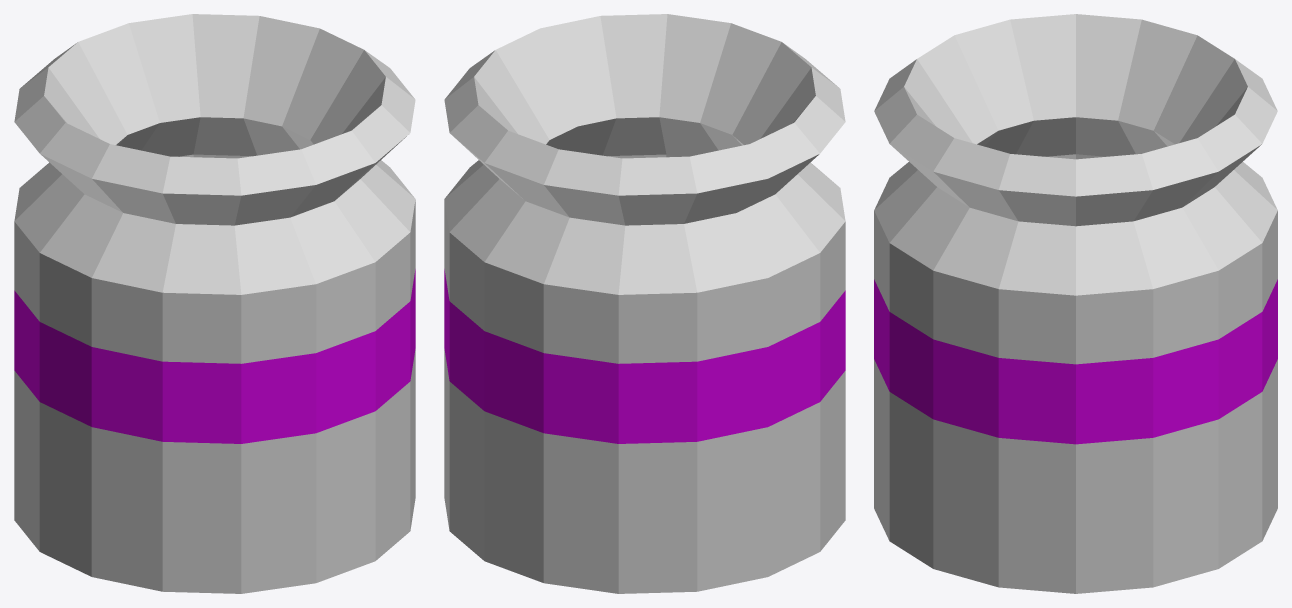
Rendered from PaintBottle1.fbx.
The picture shows the model from 3 angles, left to right: view 1: azimuth 30°, elevation 25°; view 2: azimuth 150°, elevation 25°; view 3: azimuth 270°, elevation 25°; orthographic projection.
Parts seen in each view (by area): view 1: Cylinder.004; view 2: Cylinder.004; view 3: Cylinder.004.
Boxes of the visible parts, x1,y1,x2,y2 form: Cylinder.004: [14, 14, 415, 593]; Cylinder.004: [444, 14, 845, 593]; Cylinder.004: [874, 14, 1277, 593].
Size of the model in its own units: 10 by 11.53 by 10.
